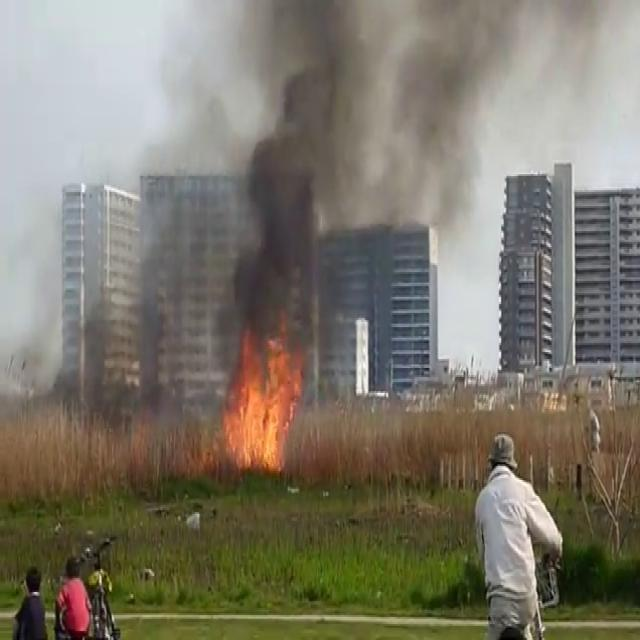Fire: (215, 317, 305, 483)
Smoke: (212, 1, 634, 270), (28, 212, 200, 448)
